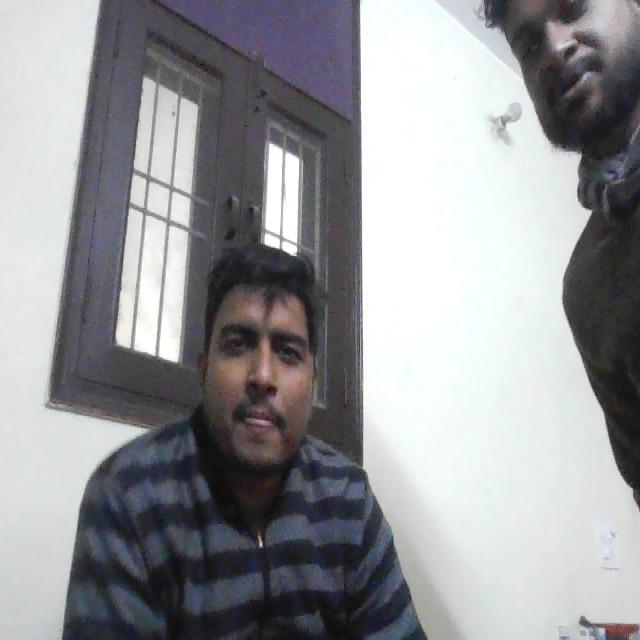real: (186, 213, 333, 492)
